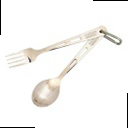fork: (7, 27, 125, 68)
